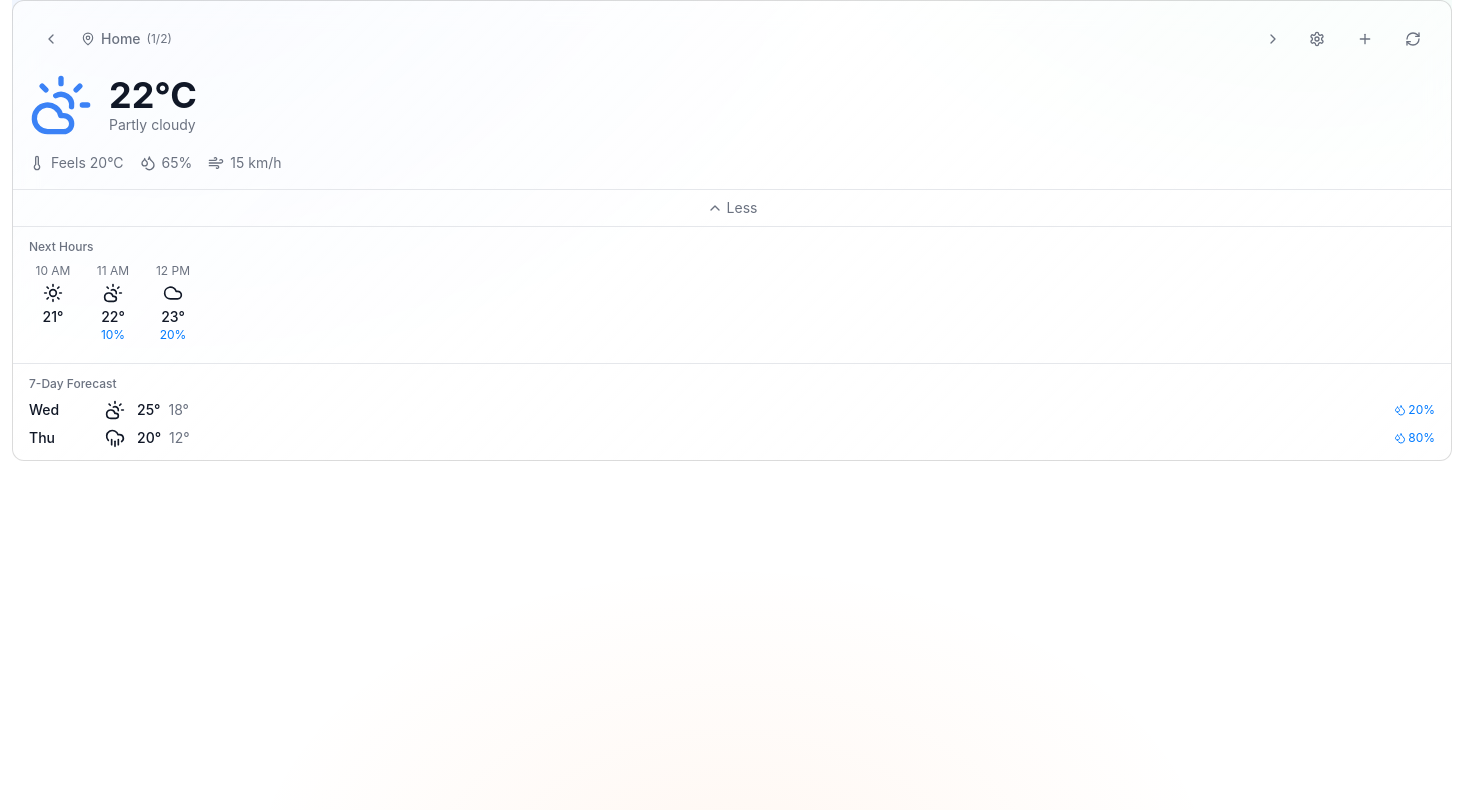
Test: WeatherWidget › Location Navigation › navigates to next location
The image size is (1464, 810).
Click the button named "Next location": (1273, 39) [1251,17,1295,61]
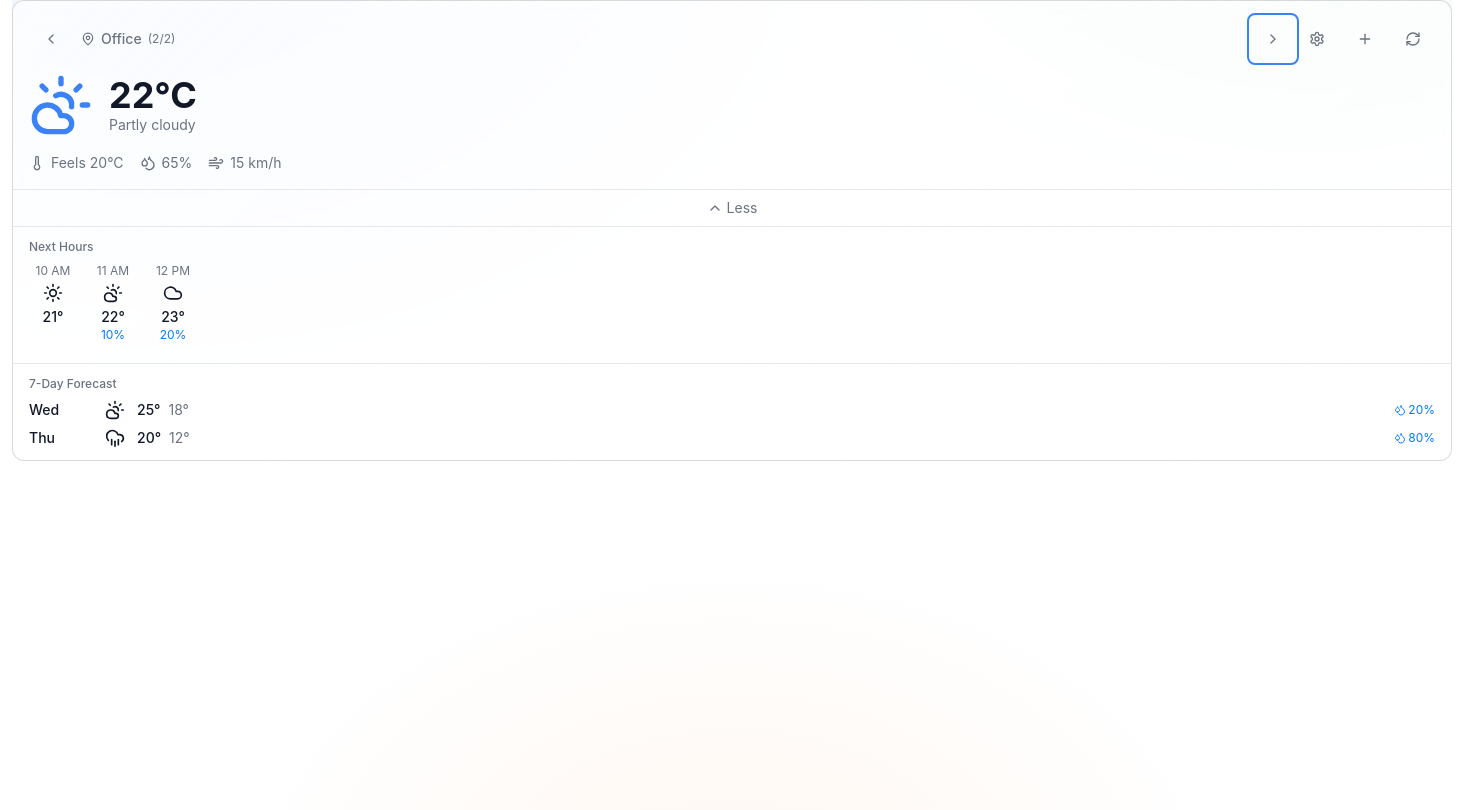
Check: the text "(2/2)" is shown, box [148,31,176,47]
